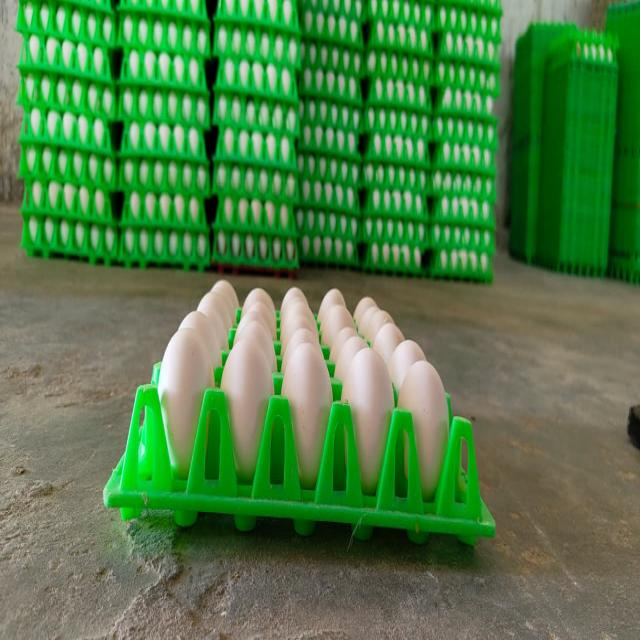egg_tray: (104, 282, 494, 543), (18, 2, 116, 263), (118, 0, 210, 269), (21, 2, 116, 260), (430, 0, 499, 280), (296, 0, 364, 265), (18, 2, 115, 184), (362, 2, 432, 218), (212, 92, 298, 267), (213, 90, 298, 267), (212, 93, 297, 267), (198, 285, 356, 374), (212, 40, 298, 202), (298, 2, 362, 216), (119, 120, 210, 269), (118, 49, 210, 196), (362, 77, 430, 273), (212, 126, 298, 269), (212, 128, 298, 270), (212, 126, 298, 267), (213, 58, 298, 200), (212, 127, 298, 267), (118, 0, 210, 130), (16, 1, 116, 120), (433, 3, 499, 179), (362, 103, 430, 273), (430, 107, 496, 280), (118, 76, 210, 195), (119, 160, 209, 269), (118, 22, 209, 126), (118, 0, 210, 100), (214, 0, 299, 103), (22, 171, 116, 263), (18, 34, 115, 119), (18, 107, 116, 190), (22, 180, 118, 263), (362, 158, 430, 273), (22, 180, 116, 263), (298, 92, 362, 212), (434, 52, 499, 170), (18, 2, 114, 81), (298, 97, 360, 217), (430, 164, 494, 280), (296, 147, 360, 263), (428, 169, 494, 280), (364, 3, 432, 110), (118, 117, 210, 196), (296, 152, 360, 265), (119, 191, 210, 269), (274, 287, 354, 375), (278, 287, 357, 376), (212, 191, 298, 269), (363, 94, 430, 193), (178, 280, 239, 383), (301, 2, 364, 97), (364, 73, 431, 162), (222, 288, 290, 375), (362, 186, 429, 274), (432, 111, 497, 199), (429, 196, 494, 280), (430, 195, 494, 280), (118, 0, 211, 58), (22, 209, 118, 264), (18, 67, 116, 120), (16, 0, 116, 47), (19, 107, 114, 156), (213, 15, 300, 68), (214, 0, 299, 51), (118, 83, 210, 130), (119, 222, 210, 269), (118, 49, 208, 96), (23, 177, 114, 223), (436, 2, 500, 67), (212, 90, 298, 138), (214, 57, 298, 106), (434, 53, 499, 116), (362, 214, 430, 274), (212, 223, 298, 270), (362, 158, 429, 218), (427, 222, 494, 281), (119, 120, 208, 164), (298, 98, 361, 160), (429, 221, 494, 280), (432, 105, 496, 164), (212, 160, 298, 203), (121, 191, 208, 233), (298, 96, 362, 153), (215, 127, 296, 172), (214, 194, 296, 238), (118, 0, 208, 40), (118, 157, 210, 196), (296, 209, 360, 265), (367, 1, 433, 55), (549, 30, 618, 73), (300, 31, 364, 76), (362, 99, 431, 140), (435, 0, 502, 42), (300, 2, 362, 46), (214, 0, 298, 32), (435, 2, 501, 42), (298, 150, 361, 191), (362, 183, 428, 222), (364, 75, 431, 113), (363, 131, 430, 169), (298, 174, 360, 215), (433, 60, 500, 97), (299, 67, 362, 106), (435, 29, 499, 67), (366, 49, 433, 84), (363, 186, 428, 221), (432, 116, 498, 150), (430, 195, 494, 230), (432, 167, 495, 202), (362, 161, 430, 193), (296, 207, 360, 241), (362, 216, 430, 248), (361, 241, 426, 274), (429, 248, 492, 281), (431, 222, 494, 254), (433, 86, 494, 119), (433, 141, 495, 173), (298, 234, 359, 266), (367, 0, 434, 29), (364, 237, 421, 271), (120, 81, 176, 110), (570, 32, 616, 66), (298, 1, 366, 21), (120, 10, 177, 32), (302, 233, 343, 263), (302, 230, 336, 260), (608, 252, 640, 282), (439, 0, 502, 15), (182, 92, 208, 116), (44, 148, 72, 166), (256, 99, 286, 115), (243, 296, 264, 316), (178, 20, 198, 39), (305, 310, 316, 341), (262, 100, 286, 113), (576, 88, 594, 100), (242, 96, 256, 111), (438, 196, 448, 214), (22, 147, 33, 163), (152, 364, 160, 383), (193, 350, 200, 369), (191, 58, 202, 70), (290, 106, 296, 126), (198, 21, 208, 33), (484, 203, 492, 217), (38, 4, 45, 19), (344, 247, 352, 260), (128, 51, 138, 61), (201, 169, 208, 183), (183, 314, 192, 324), (440, 34, 454, 40), (324, 129, 332, 139), (123, 54, 127, 73), (246, 96, 254, 104), (126, 159, 135, 166), (129, 51, 137, 58), (326, 363, 333, 371), (438, 34, 452, 38), (368, 52, 386, 55), (168, 39, 177, 45), (200, 296, 206, 305), (484, 190, 490, 198), (123, 55, 126, 70), (458, 205, 462, 216), (268, 64, 274, 71), (219, 134, 224, 142), (350, 132, 356, 138), (390, 166, 398, 170), (76, 156, 80, 164), (202, 85, 205, 95), (363, 233, 368, 239), (135, 42, 144, 45), (449, 207, 452, 216), (494, 44, 496, 56), (147, 40, 155, 43), (88, 157, 92, 163), (474, 191, 480, 195), (434, 175, 438, 181), (278, 39, 280, 50), (183, 96, 186, 103), (184, 372, 188, 377), (456, 35, 461, 39), (270, 65, 274, 70), (404, 168, 406, 178), (144, 54, 149, 58), (270, 66, 274, 71), (168, 92, 170, 102), (360, 340, 366, 343), (453, 143, 457, 147), (370, 7, 374, 11), (206, 103, 208, 111), (147, 52, 154, 54), (264, 299, 268, 302), (466, 89, 469, 93), (145, 26, 148, 30), (394, 168, 398, 171), (389, 2, 400, 3), (476, 92, 481, 94), (68, 132, 70, 137), (228, 290, 230, 295), (389, 2, 398, 3), (387, 237, 396, 238), (353, 350, 356, 353), (434, 184, 436, 188), (373, 2, 377, 4), (455, 88, 461, 89), (490, 221, 492, 224), (452, 198, 458, 199), (244, 102, 247, 104), (444, 142, 447, 144), (154, 61, 157, 63), (444, 88, 449, 89), (131, 41, 133, 43), (460, 65, 462, 67), (23, 100, 25, 102), (82, 140, 84, 142), (491, 151, 492, 155), (322, 232, 324, 234), (201, 53, 203, 54), (76, 152, 77, 154), (390, 166, 392, 167), (236, 256, 237, 258), (465, 193, 467, 194), (160, 54, 162, 55), (338, 247, 339, 248), (441, 46, 441, 48), (288, 80, 288, 82), (130, 38, 130, 40), (150, 27, 150, 28), (128, 26, 128, 31), (74, 168, 74, 169), (145, 54, 145, 55), (43, 109, 43, 114), (50, 12, 50, 14), (206, 36, 208, 36), (296, 122, 296, 124), (205, 13, 205, 14), (181, 326, 181, 326), (341, 296, 341, 298), (338, 238, 339, 238), (299, 148, 299, 149), (215, 248, 215, 250), (360, 338, 362, 338), (203, 70, 203, 72), (272, 73, 272, 74), (170, 120, 170, 122), (156, 92, 156, 94)
